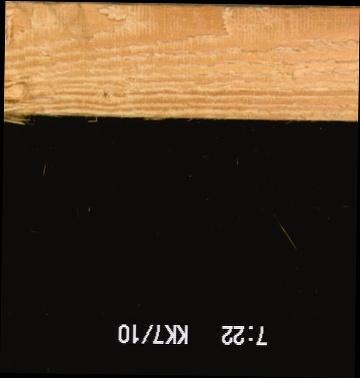small_knot: (95, 87, 111, 101)
